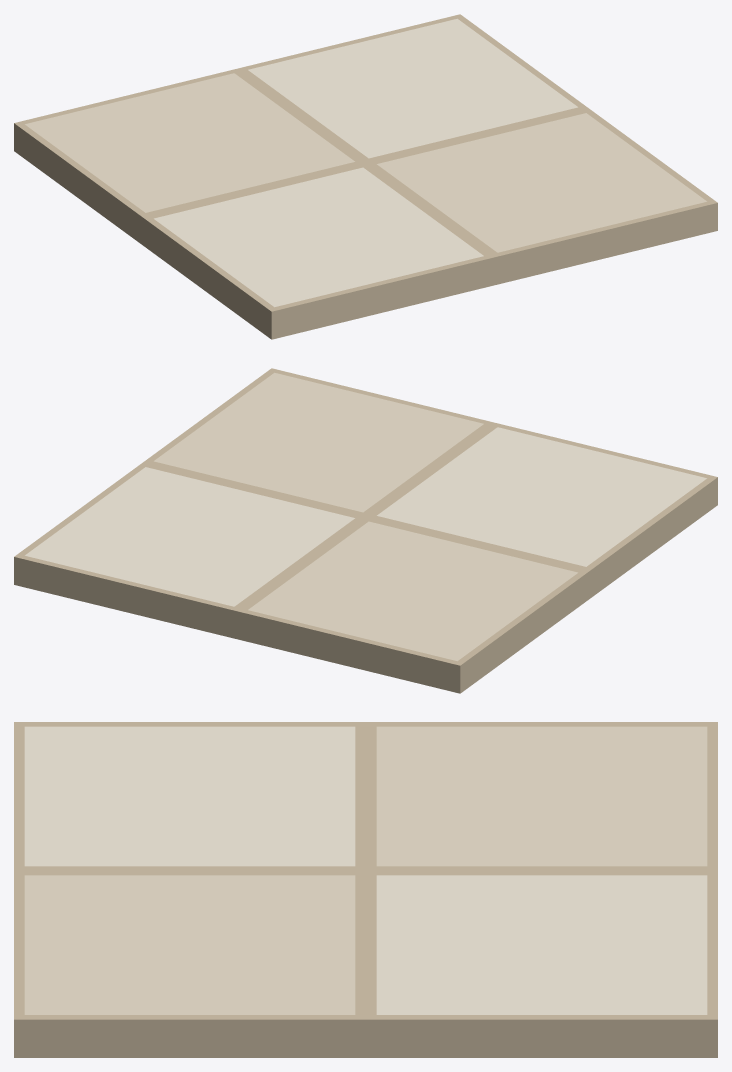
File: paving_tile_c.glb
3 views of the same model, one above another, from view 1: azimuth 30°, elevation 25°; view 2: azimuth 150°, elevation 25°; view 3: azimuth 270°, elevation 25° (orthographic). The views are drawn at different scales.
Parts seen in each view (by area): view 1: paving_tile_c; view 2: paving_tile_c; view 3: paving_tile_c.
Boxes of the visible parts, x1,y1,x2,y2 form: paving_tile_c: [14, 14, 717, 339]; paving_tile_c: [14, 368, 717, 693]; paving_tile_c: [14, 722, 717, 1057].
Bounding box in the file's own units: 1 × 0.06 × 1.
